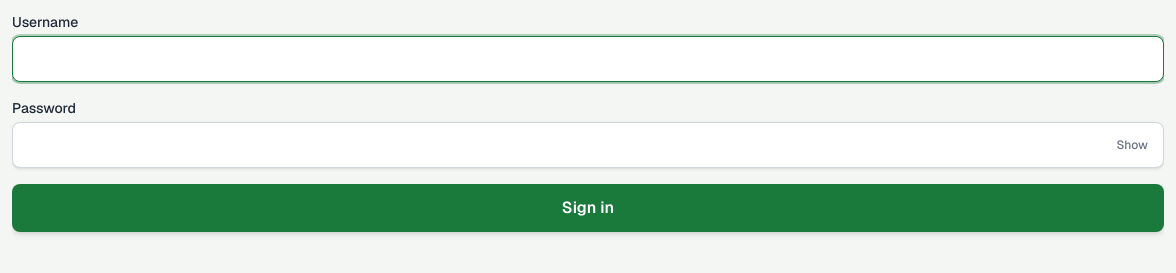
the organiser login form › warns about Caps Lock before the third failed attempt
Expected: the text "Caps Lock is on" is not shown
Click the password field labelled "Password" at (588, 145), box 12,122 -> 1164,168
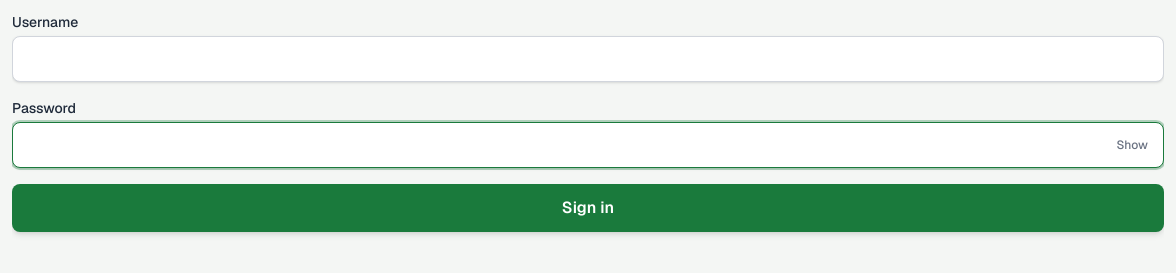
Type keys "{CapsLock}a"
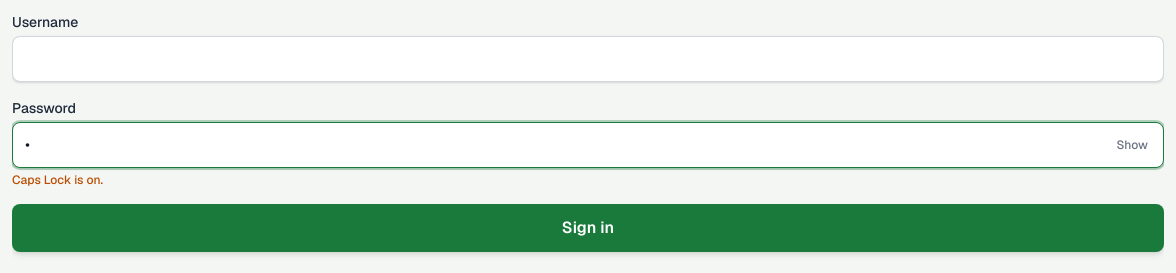
Now the text "Caps Lock is on." is shown, box 12,172 -> 103,188
